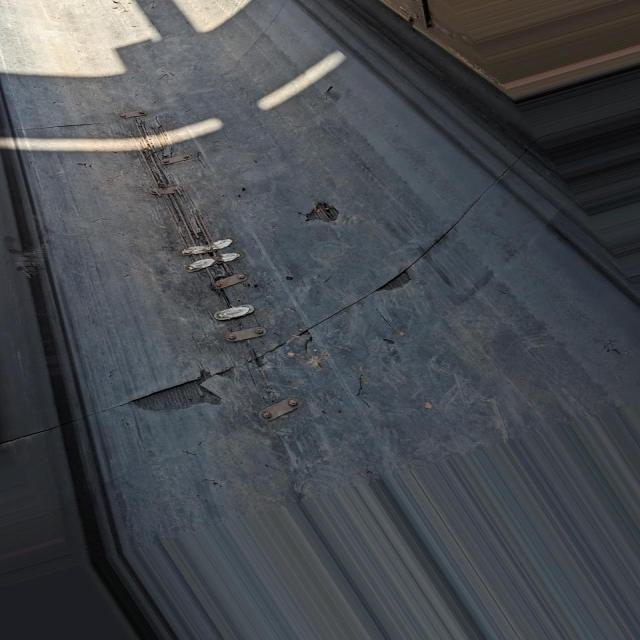Tear: (100, 184, 483, 418), (123, 114, 264, 364), (300, 192, 348, 226), (18, 114, 96, 133)
